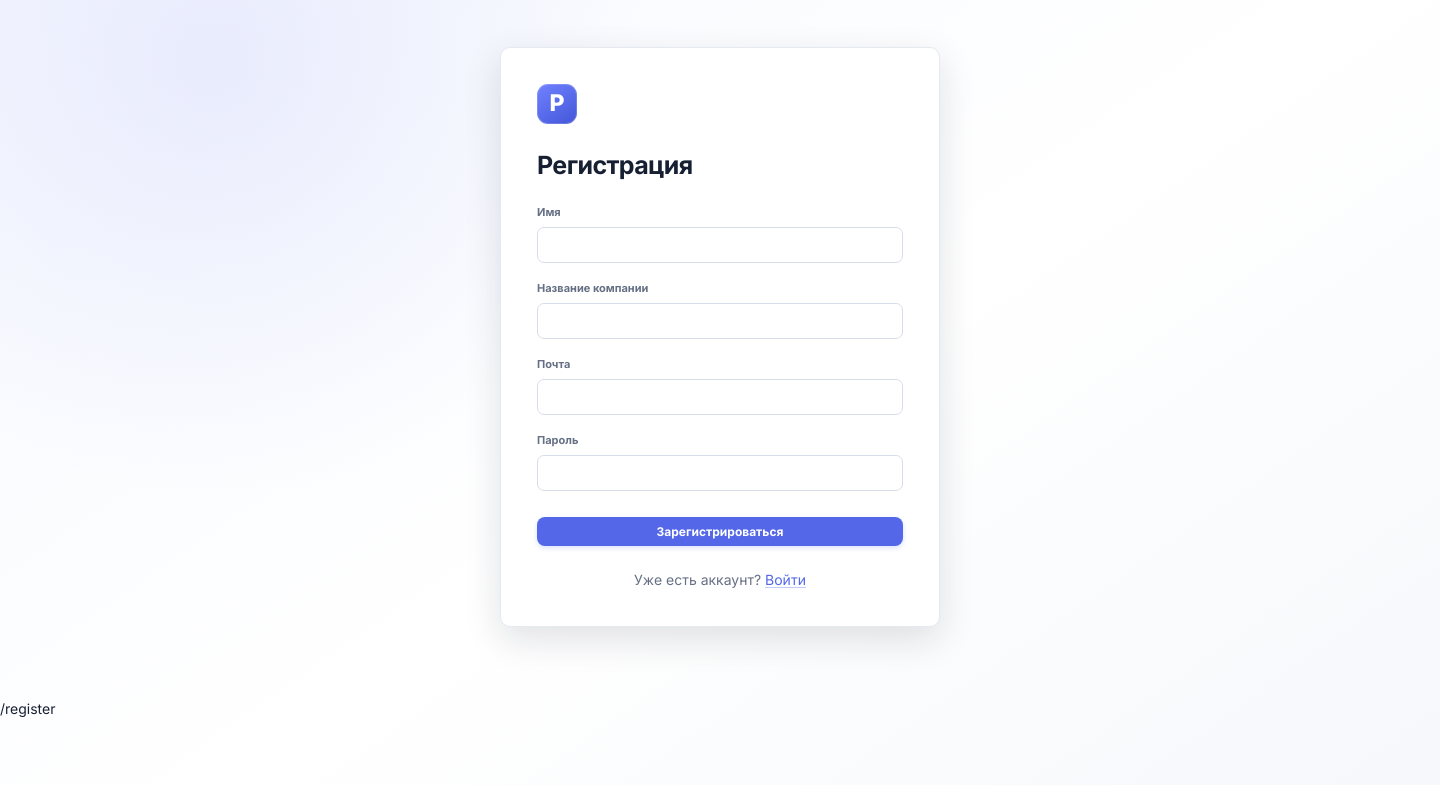
Test: полоска «адрес не подтверждён» › встречает зарегистрировавшегося строкой «письмо отправлено на …»
This screenshot has width=1440, height=785.
Type "Алексей" into the field labelled "Имя" at (720, 245), box [537,227,903,263]
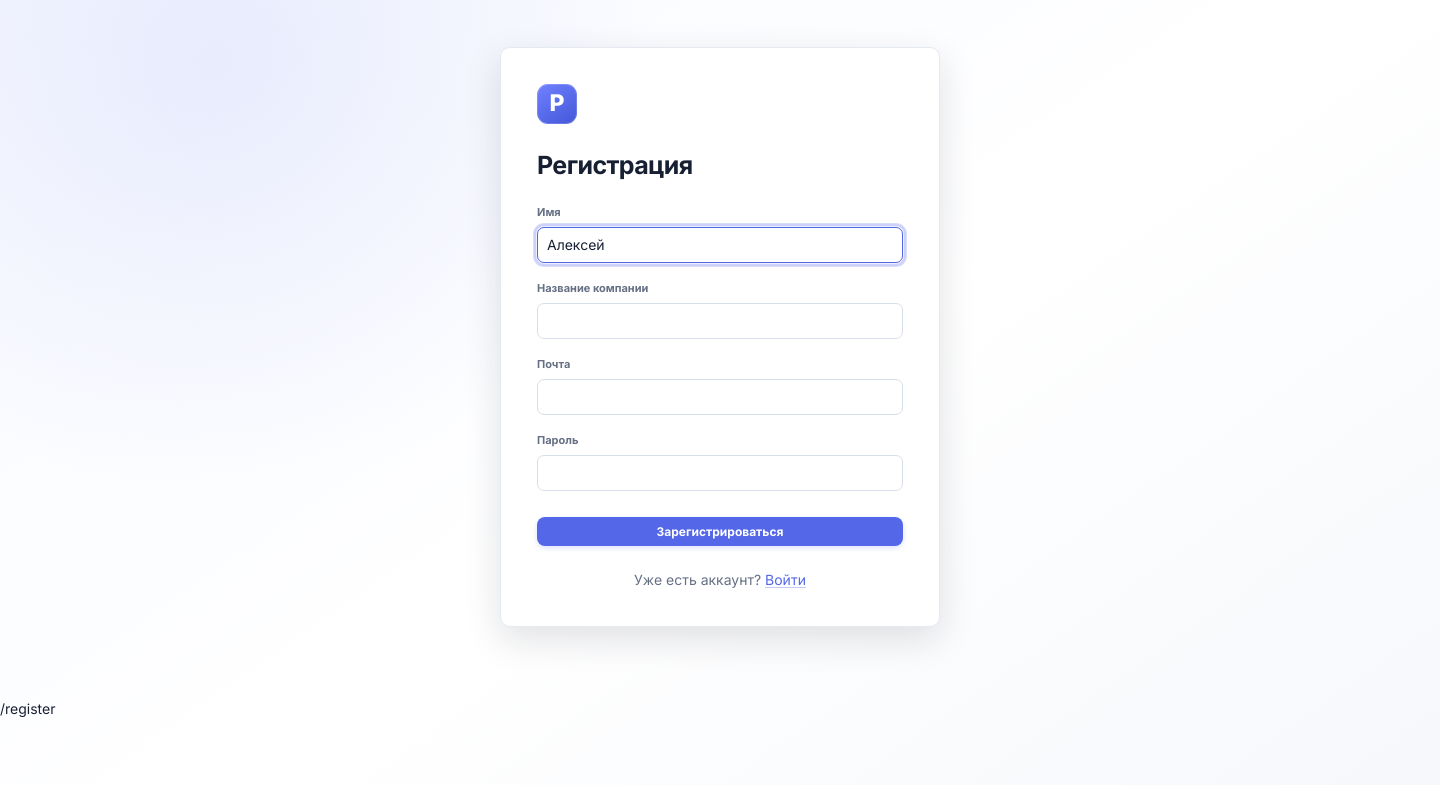
Type "Acme" into the field labelled "Название компании" at (720, 321), box [537,303,903,339]
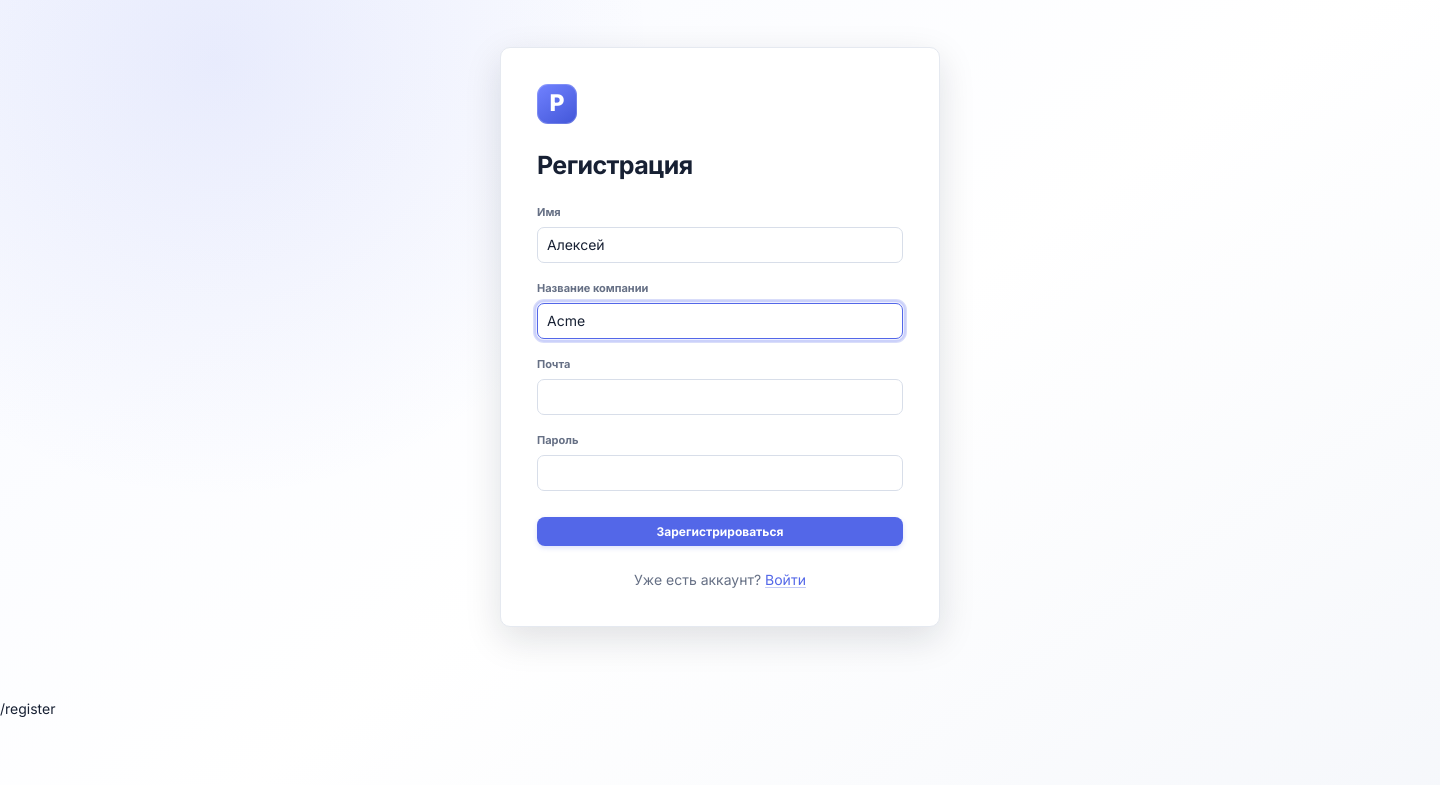
Type "a@b.c" into the field labelled "Почта" at (720, 397), box [537,379,903,415]
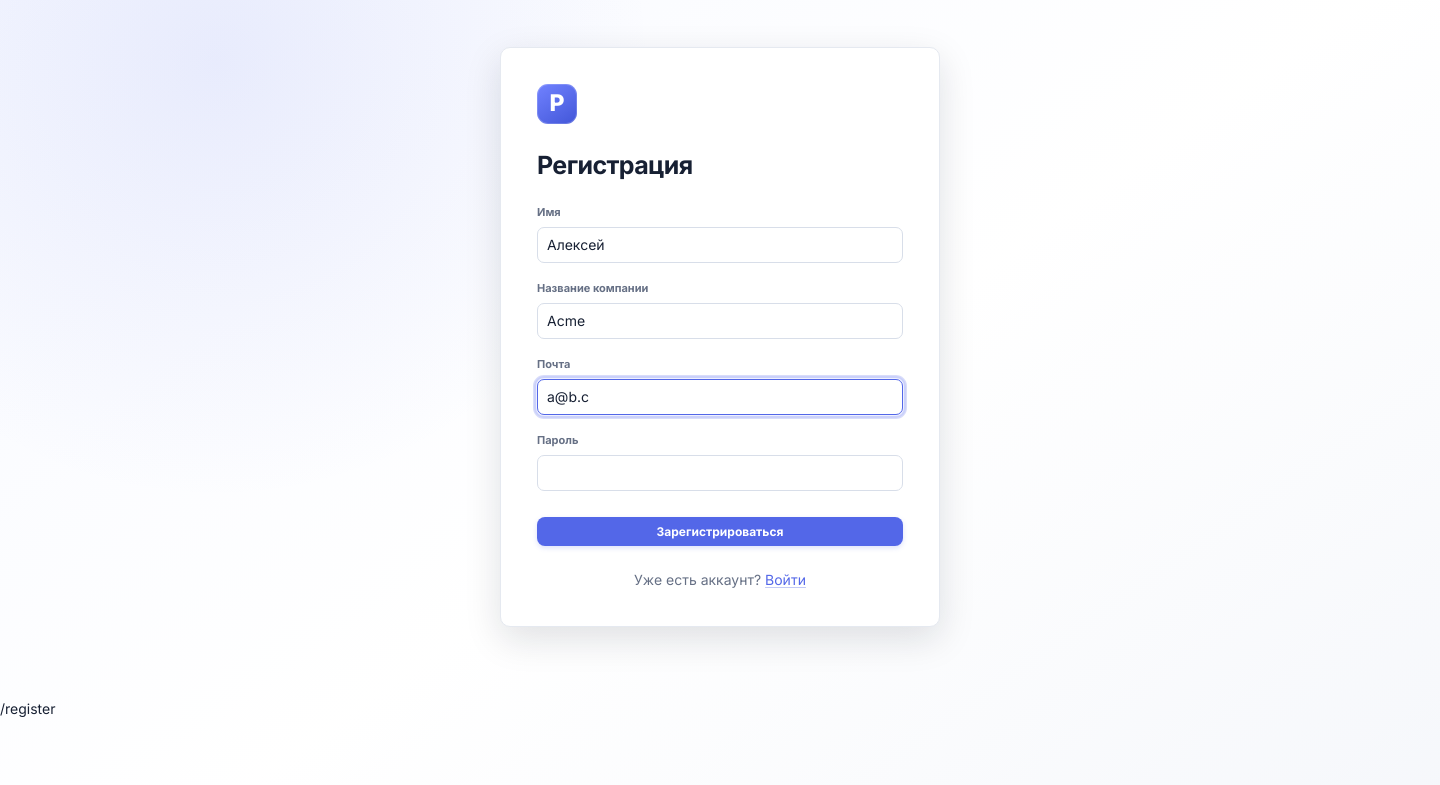
Type "s3cret-pass" into the password field labelled "Пароль" at (720, 473), box [537,455,903,491]
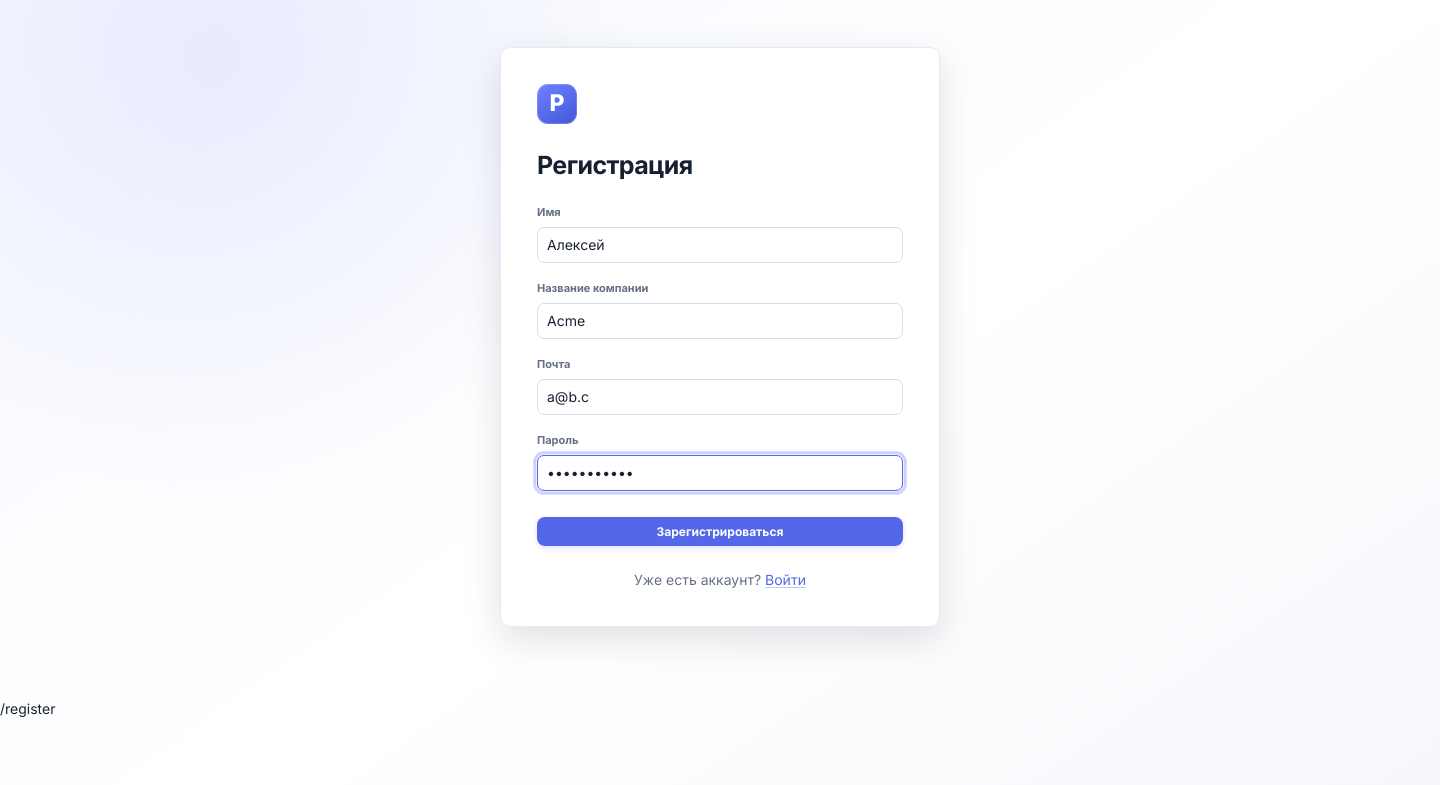
Click the button "Зарегистрироваться" at (720, 532), box [537,517,903,546]
(page scrolled)
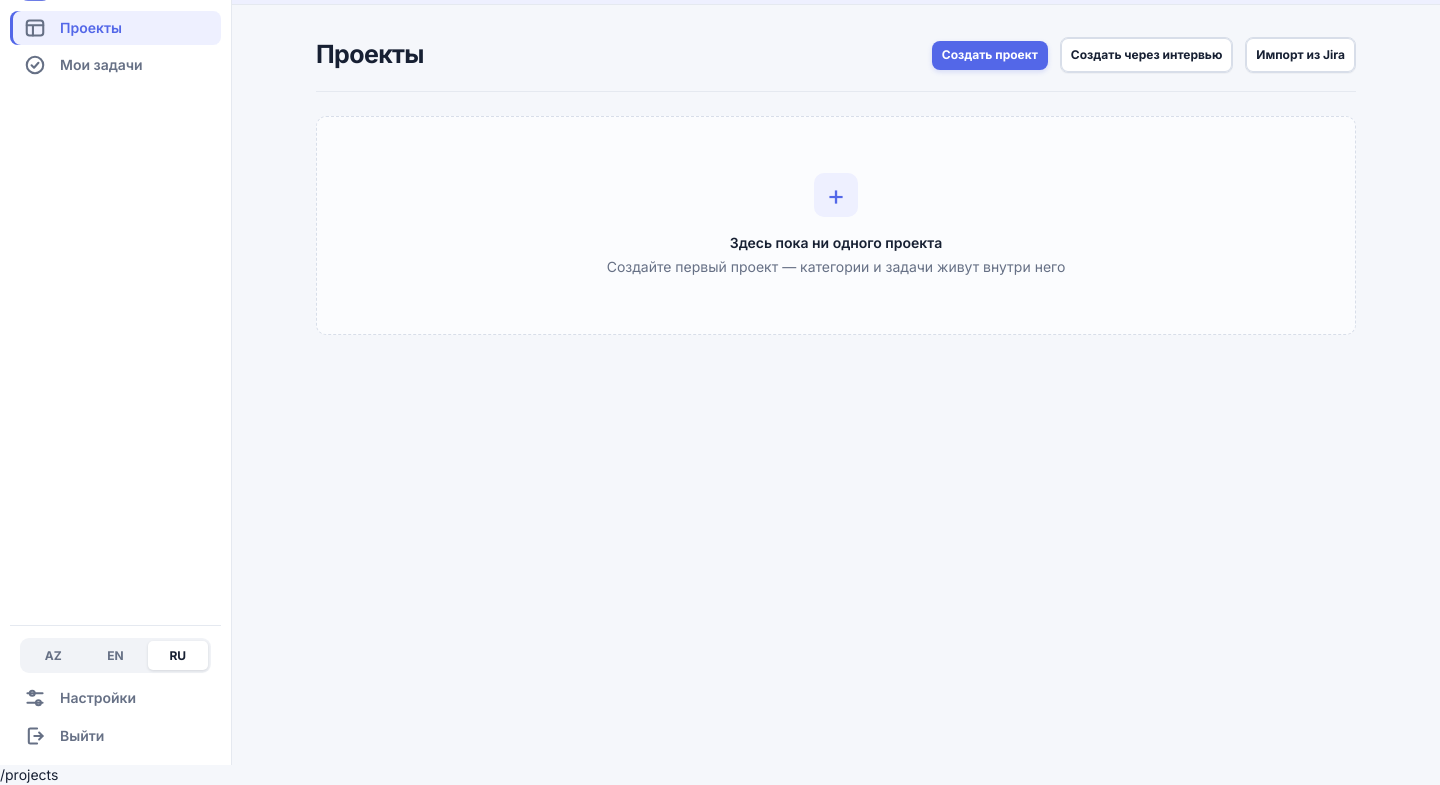
Result: the text with test id "location" reads "/projects" at [0,766,58,783]
